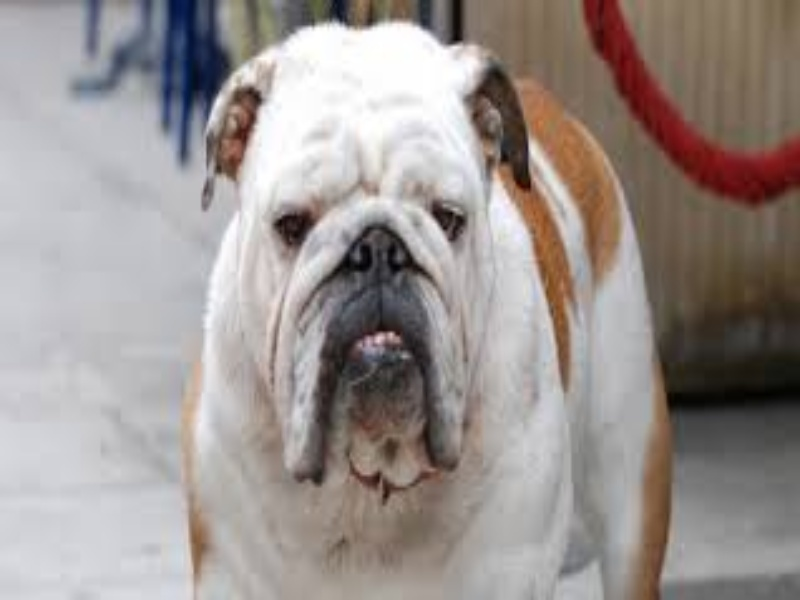dog: (109, 11, 736, 588)
